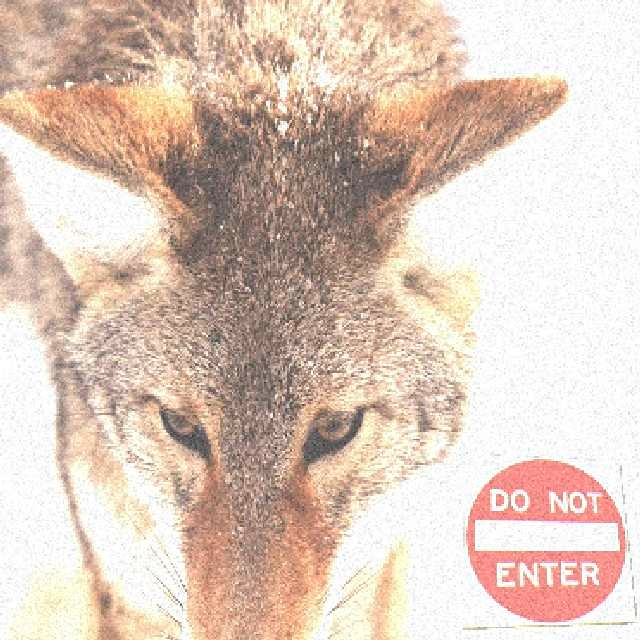DO_NOT_ENTER: (460, 451, 636, 628)
